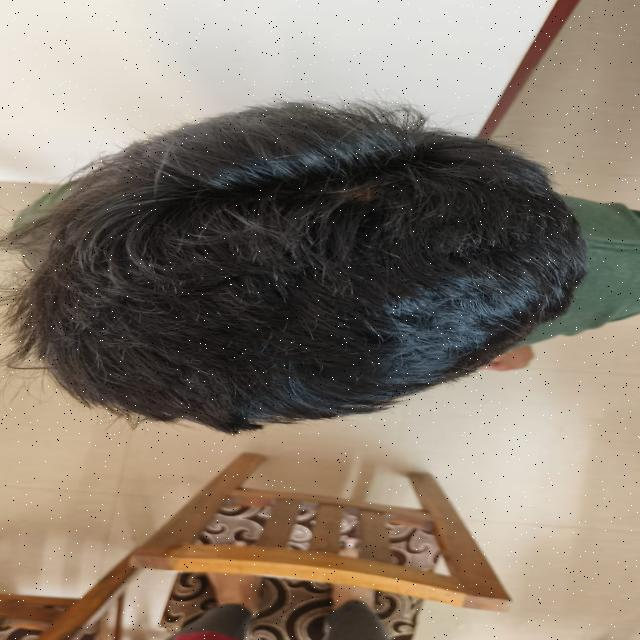humans: (0, 88, 640, 439)
